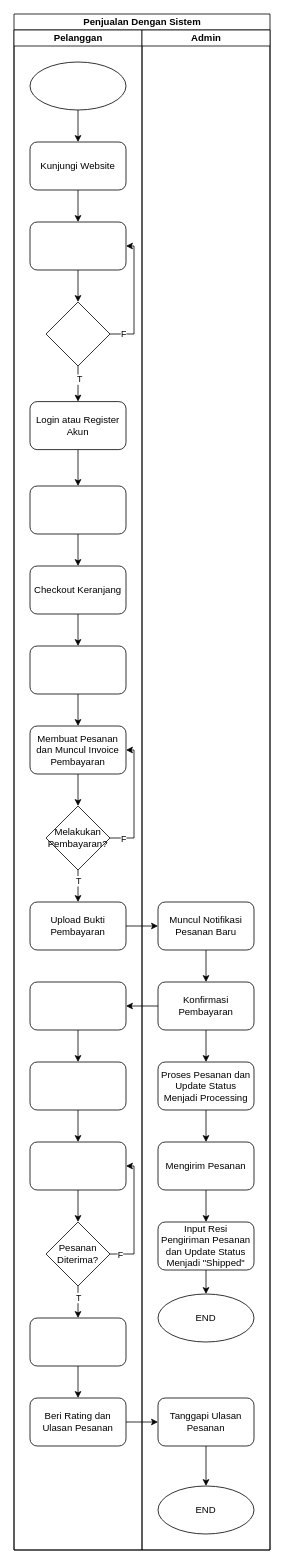
Image size: 284x1564. Some labels were removed from this diagram. The shapes that lost their labels are listed below. From the top down, each one's centre as x and y in pixels, then its label:
pixel 77 85: START
pixel 77 245: Lihat dan Pilih Produk
pixel 77 333: Tambah ke Keranjang?
pixel 77 509: Cek Kembali Keranjang
pixel 77 669: Pilih Pengiriman dan Pembayaran
pixel 77 1005: Status Pesanan Menjadi "Confirmed"
pixel 77 1085: Kembali ke Menu Pesanan Saya
pixel 77 1165: Cek Status Pesanan
pixel 77 1341: Terima Pesanan dan Status Pesanan Menjadi "Delivered"
